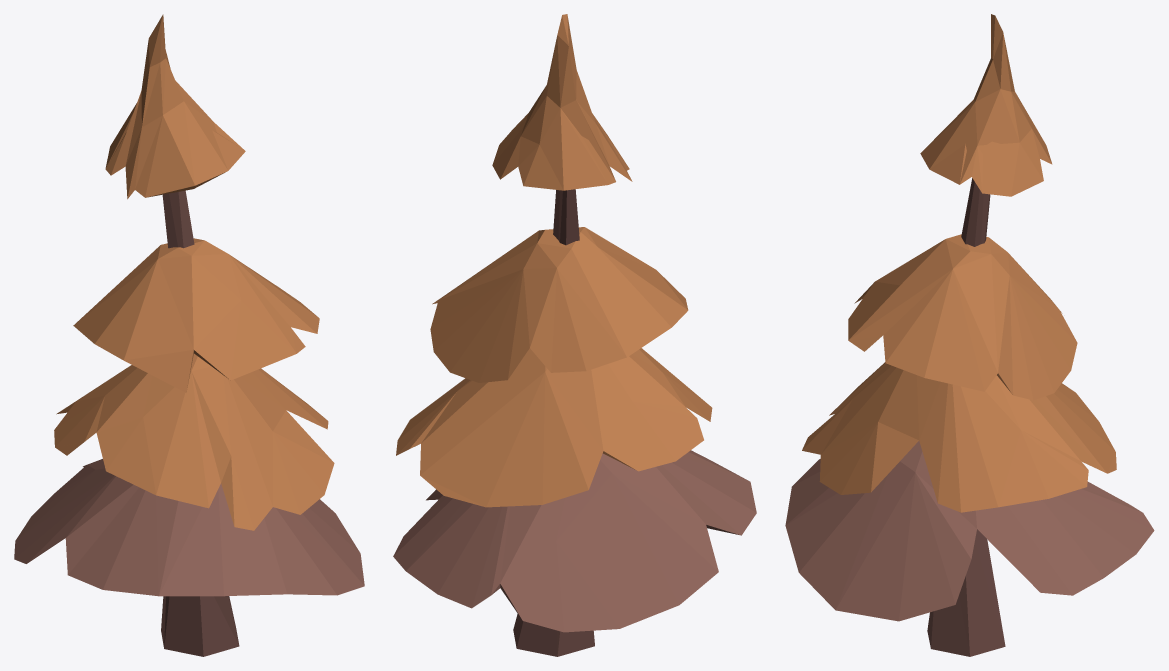
The model's file is PineTree_Autumn_2.lod2.glb.
3 renders of one model, left to right at view 1: azimuth 30°, elevation 25°; view 2: azimuth 150°, elevation 25°; view 3: azimuth 270°, elevation 25°, orthographic. The views are drawn at different scales.
Parts seen in each view (by area): view 1: PineTree_Autumn_2; view 2: PineTree_Autumn_2; view 3: PineTree_Autumn_2.
Boxes of the visible parts, left/top/right/bottom form: PineTree_Autumn_2: left=14, top=14, right=364, bottom=656; PineTree_Autumn_2: left=393, top=14, right=756, bottom=656; PineTree_Autumn_2: left=785, top=14, right=1154, bottom=656.
Size of the model in its own units: 1.79 by 3.57 by 1.95.
